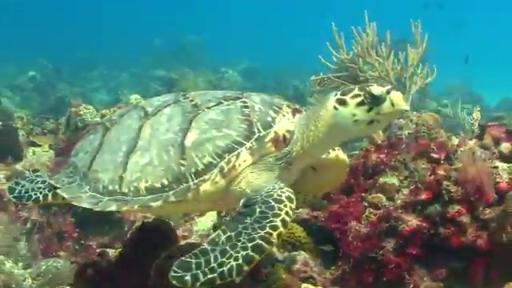Fish: (8, 84, 408, 287)
